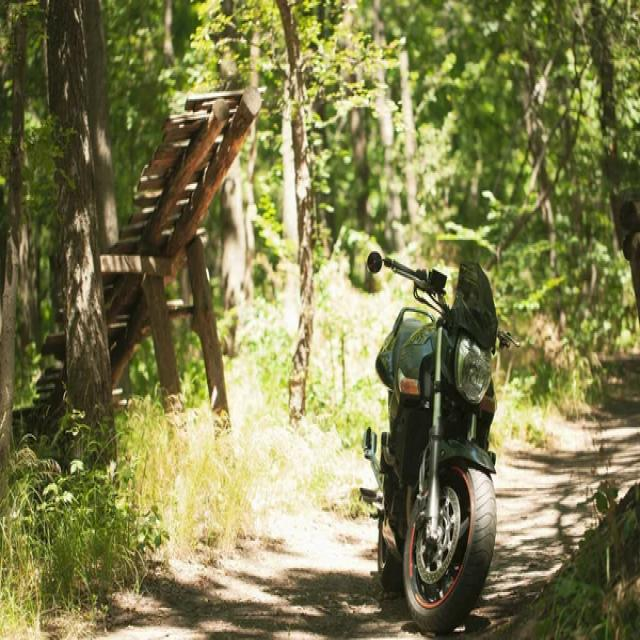Bike: (352, 238, 519, 632)
